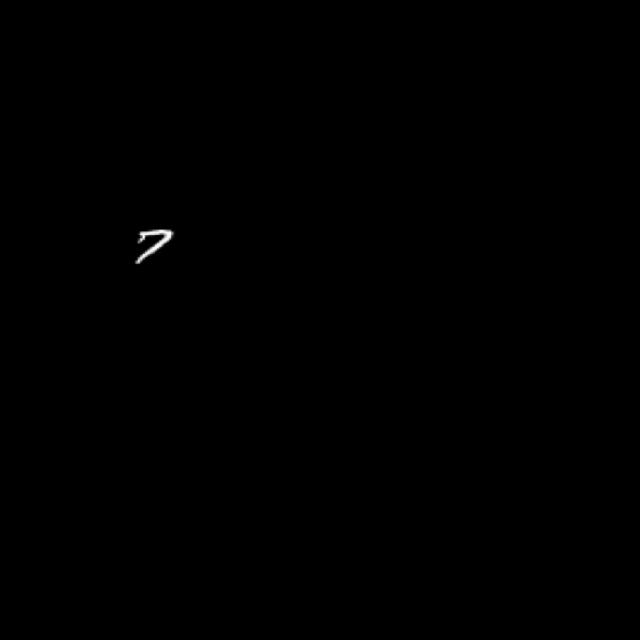seven -7-: (116, 224, 182, 278)
